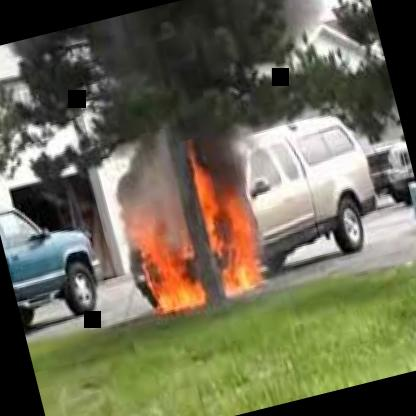fire: (110, 144, 268, 330)
